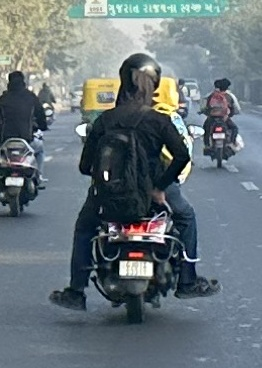BikeWithRider: (44, 47, 225, 327), (0, 66, 53, 220), (195, 74, 247, 171), (33, 79, 59, 129)
Helmet: (111, 49, 166, 109)
NoHelmet: (2, 67, 30, 95)
